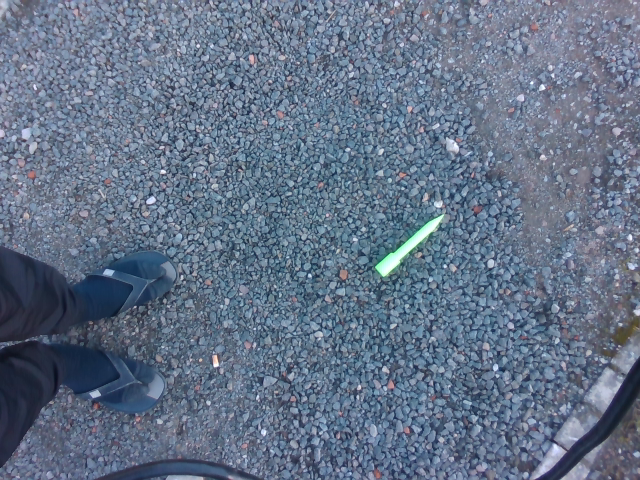Probe: (373, 208, 449, 280)
